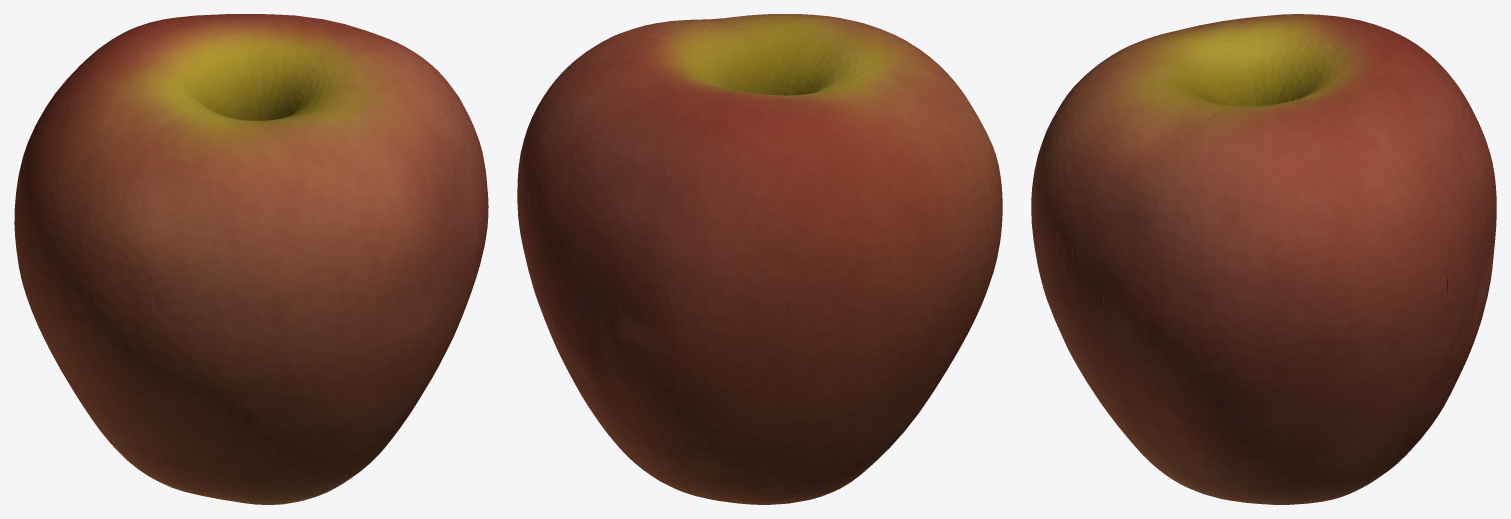
The picture shows the model from 3 angles, left to right: view 1: azimuth 30°, elevation 25°; view 2: azimuth 150°, elevation 25°; view 3: azimuth 270°, elevation 25°; orthographic projection.
Parts seen in each view (by area): view 1: world; view 2: world; view 3: world.
Part boxes in pixels (x1=…): world: x1=14, y1=14, x2=488, y2=504; world: x1=517, y1=14, x2=1002, y2=504; world: x1=1031, y1=14, x2=1496, y2=504.
Size of the model in its own units: 0.9989 by 0.9382 by 0.9586.
1 material, 1 textured.
